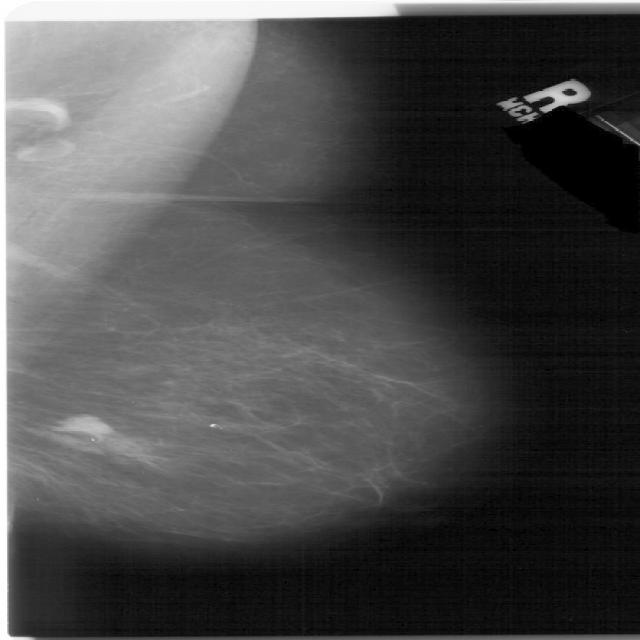tumour: (49, 414, 115, 438)
